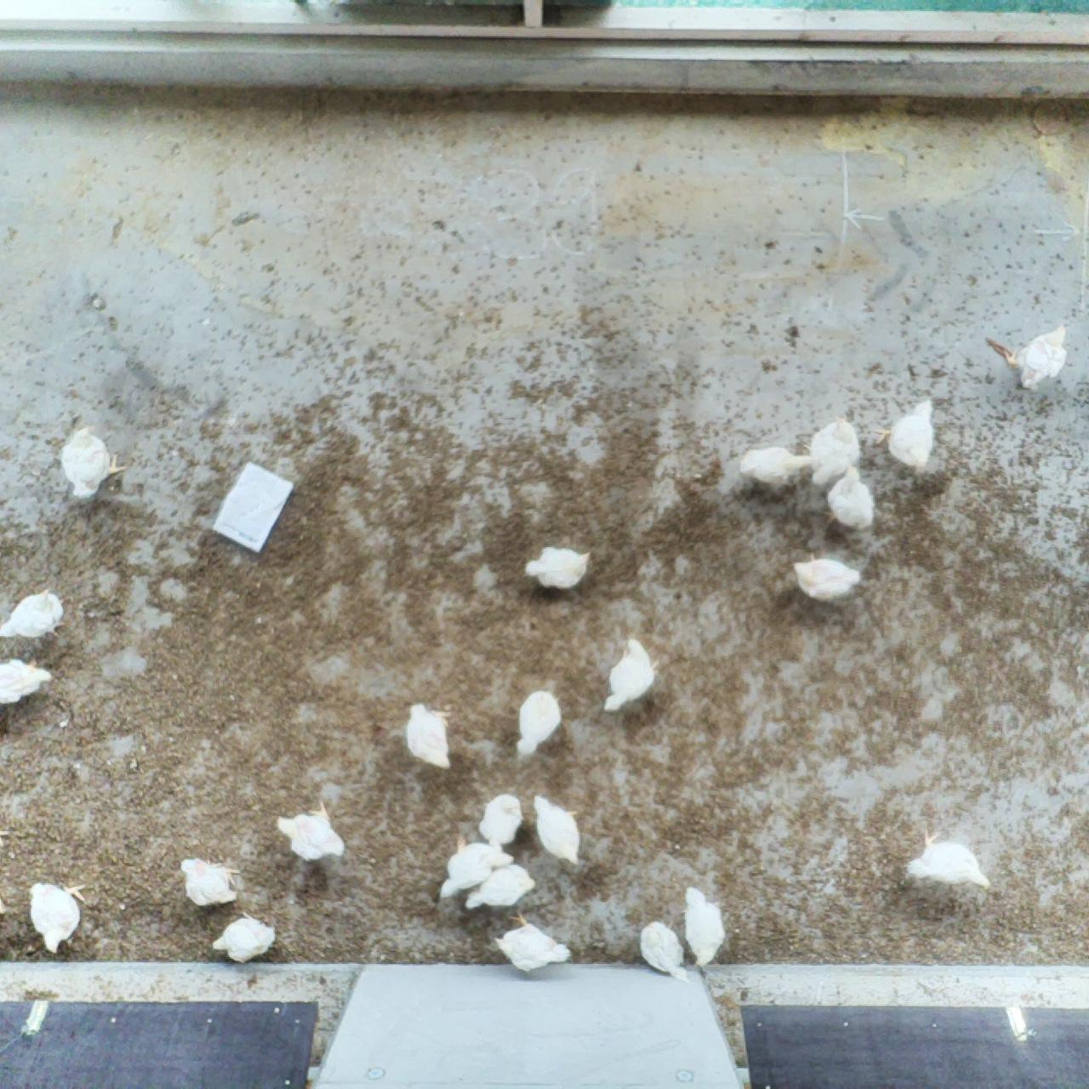chicken: (902, 826, 993, 894), (488, 907, 575, 978), (433, 832, 517, 902), (58, 422, 127, 505), (1001, 320, 1072, 395), (872, 396, 939, 475), (600, 633, 663, 717), (271, 798, 351, 863), (28, 877, 91, 957), (801, 413, 864, 490), (817, 460, 878, 537), (530, 793, 590, 870), (0, 585, 77, 642), (679, 881, 728, 969), (785, 548, 863, 603), (209, 909, 279, 966), (404, 700, 457, 773), (636, 915, 691, 984), (177, 854, 242, 912), (512, 688, 564, 760), (524, 543, 596, 592), (737, 442, 817, 486), (478, 791, 526, 856), (0, 655, 55, 708)
